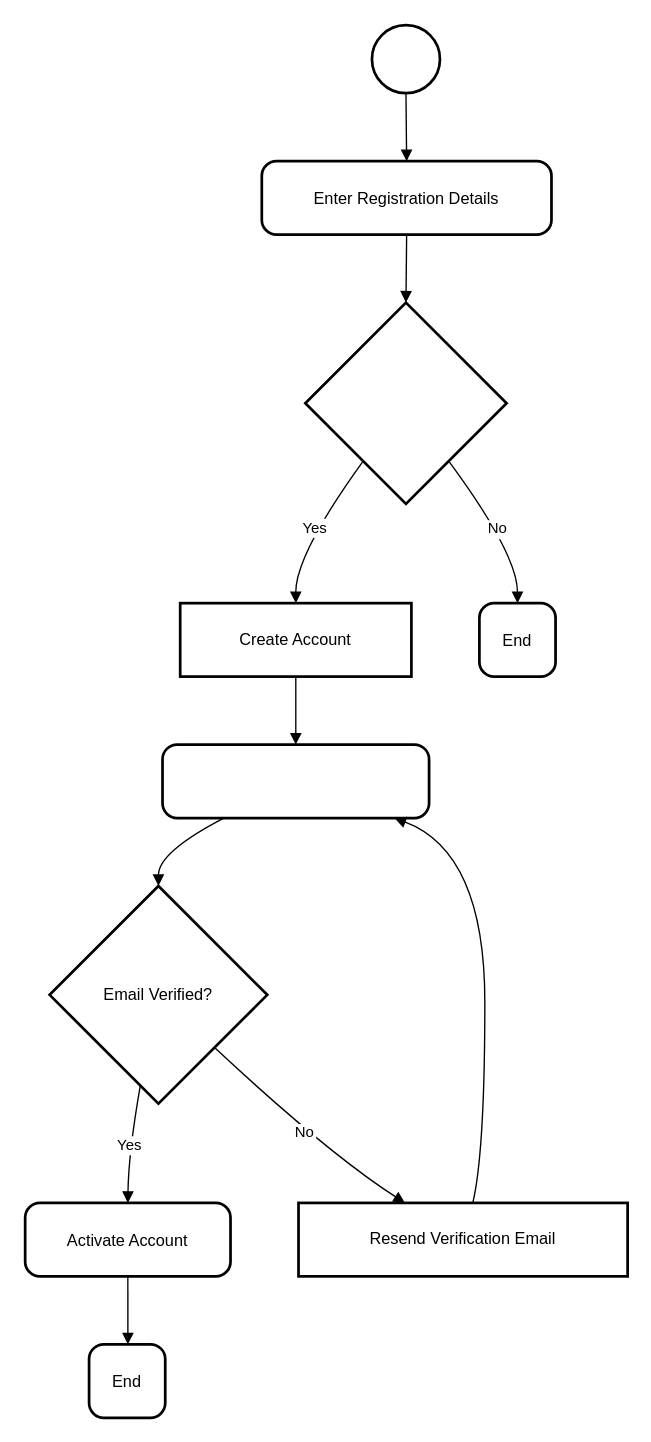
Some shapes in this 651 by 1442 pixel diagram are drawn without their labels. The centre of each missing label's shape, as x and y in pixels:
Send Verification Email: the point at 295,781
Start: the point at 405,58
Valid Details?: the point at 405,403
